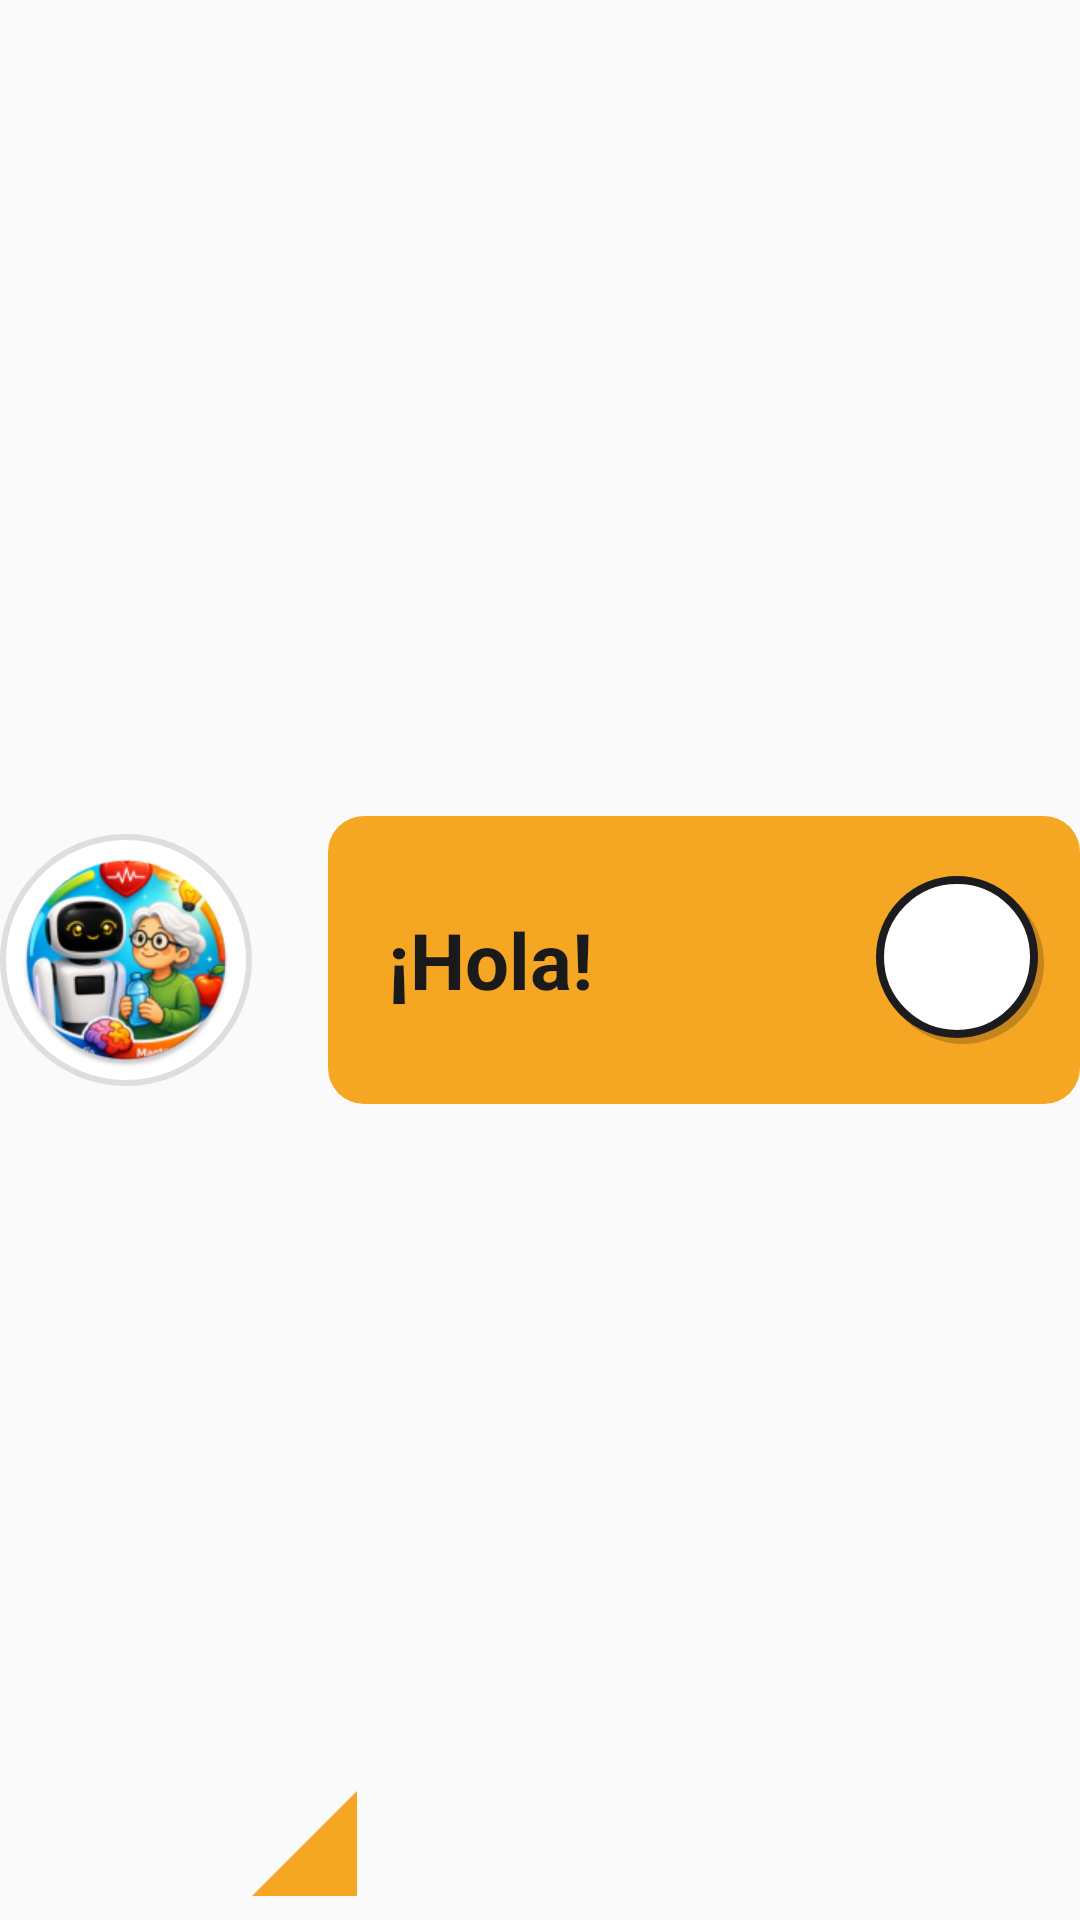

Icons on this 1080 x 1920 Android screen, each with its box as (x1, y1, x2, y2):
triangle: (252, 1791, 357, 1896)
